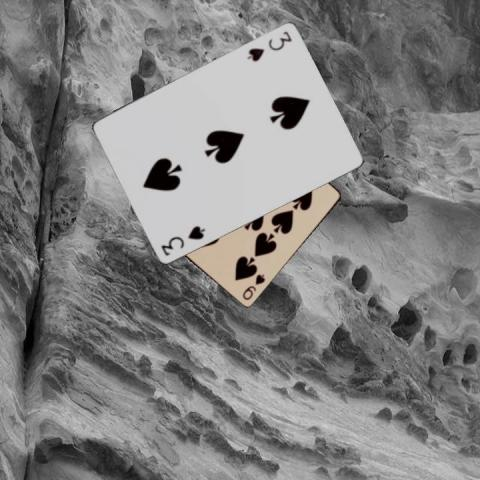3s: (244, 27, 293, 63), (158, 222, 207, 257)
9s: (239, 271, 267, 302)
